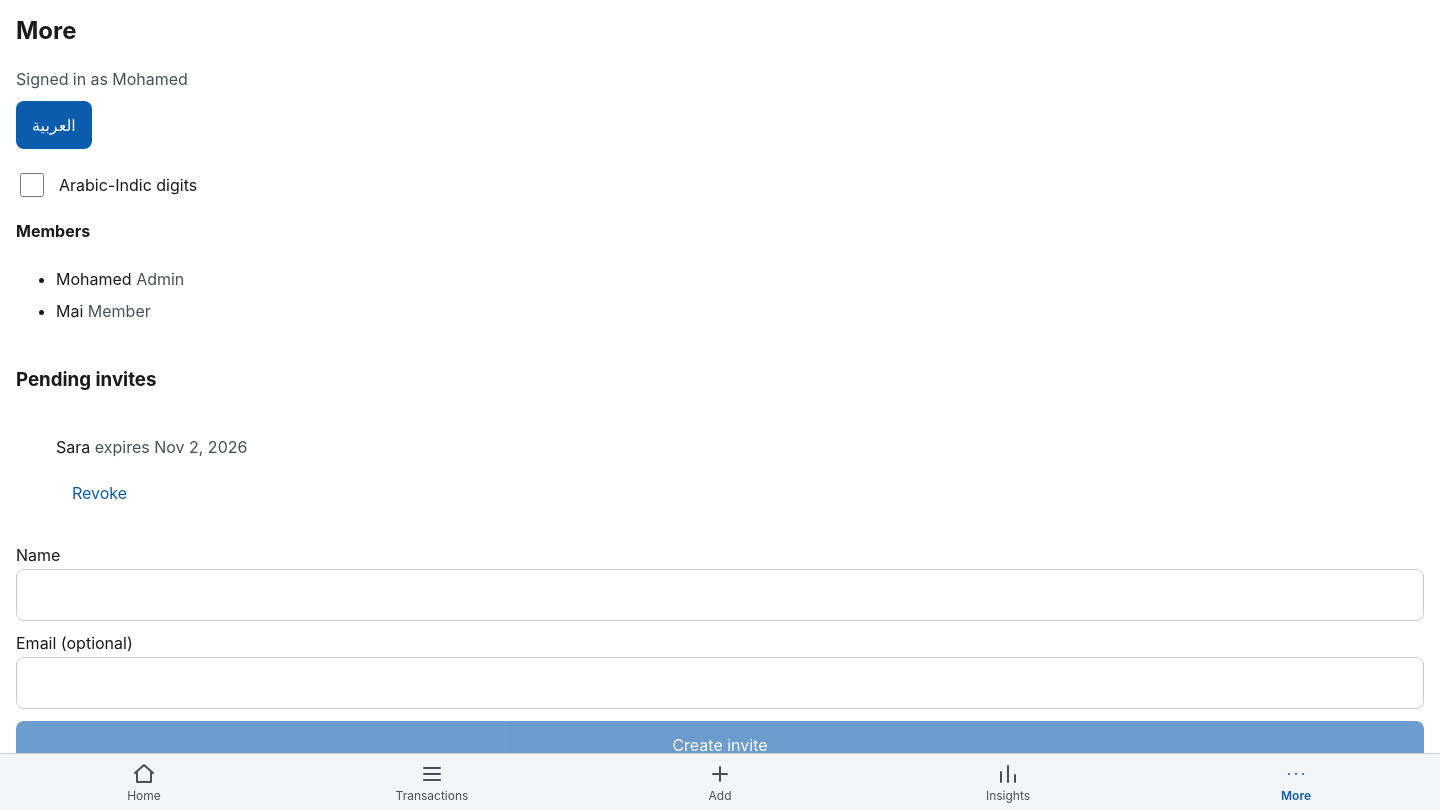
Scenario: REQ-SEC-060 Members in settings › REQ-SEC-060 an admin lists and revokes a pending invite
This screenshot has width=1440, height=810.
Click the button with aria-label "Revoke invite for Sara" at (100, 493), box [56, 469, 143, 517]
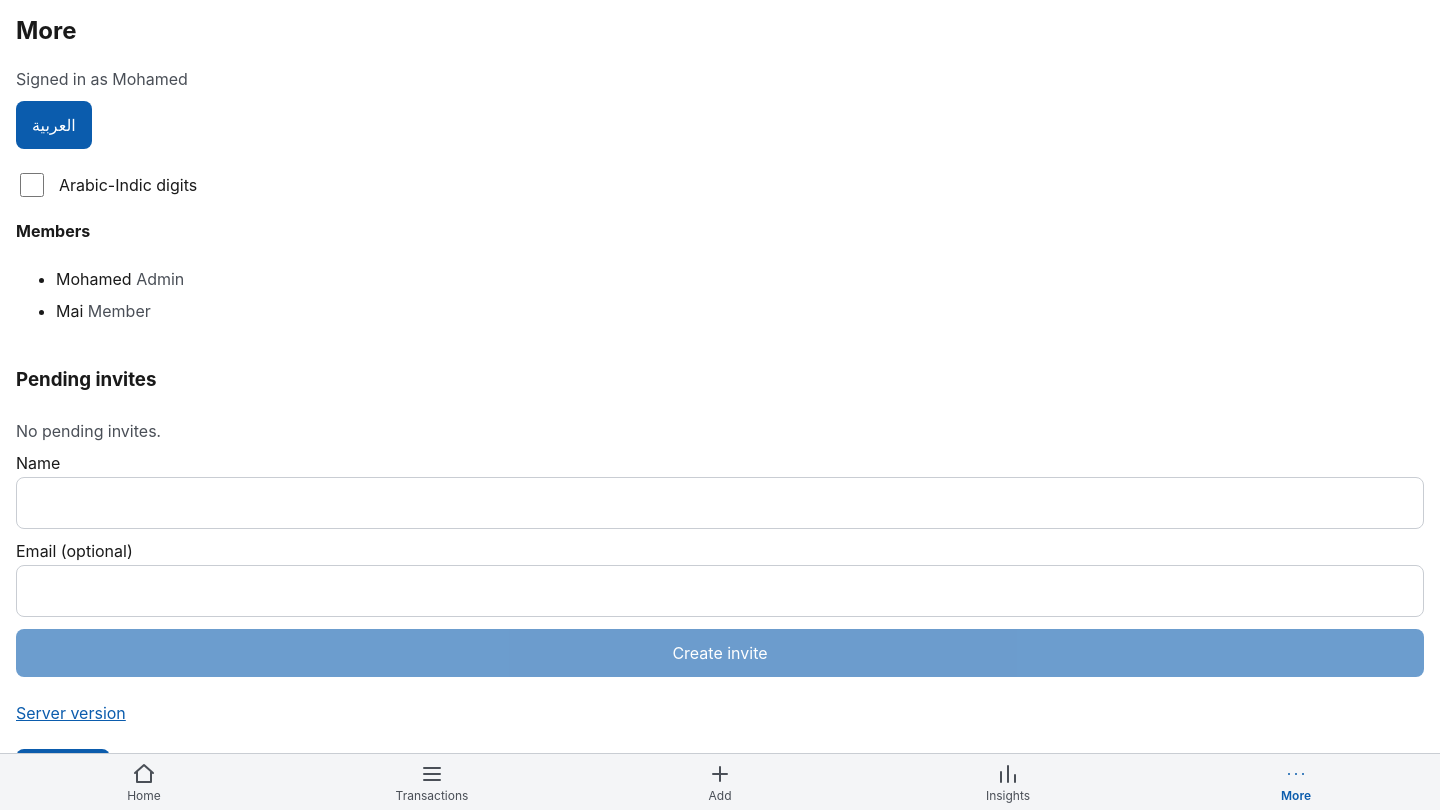
Expected: the text "No pending invites." is shown, [16, 421, 161, 441]
